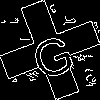G: (25, 25, 78, 82)
